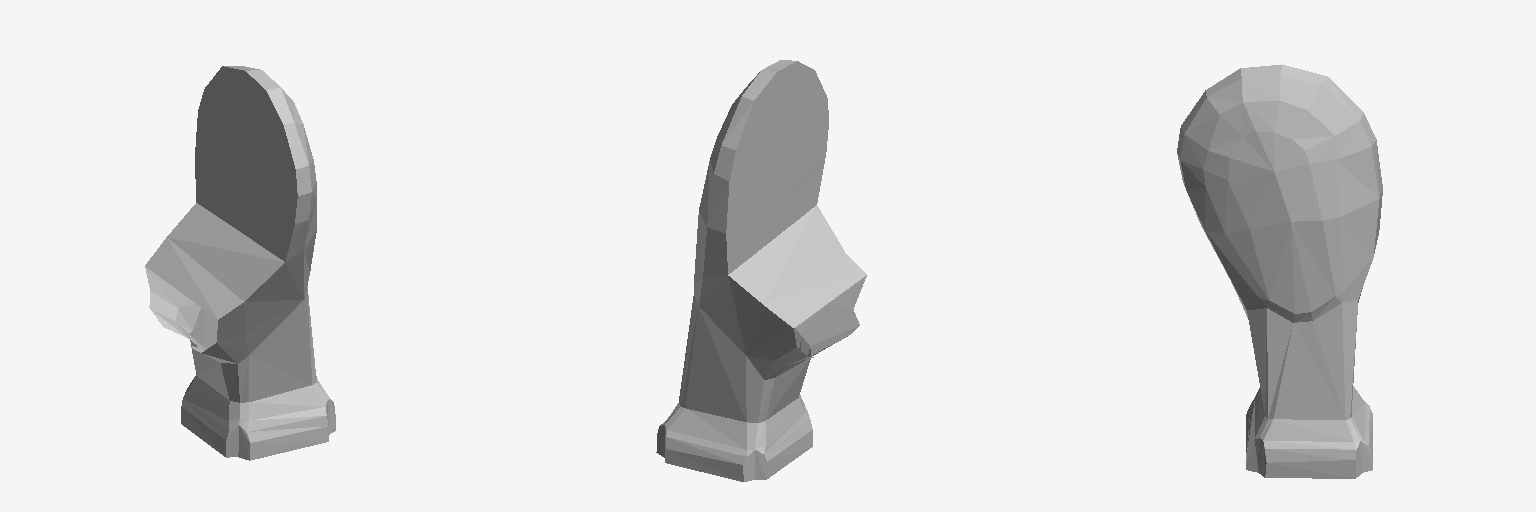
Rendered from DewbackBLeftLeg.obj.
3 views of the same model, side by side, from view 1: azimuth 30°, elevation 25°; view 2: azimuth 150°, elevation 25°; view 3: azimuth 270°, elevation 25° (orthographic).
Visible parts, largest first — view 1: Mesh_0106_Mesh_0106Mesh.001; view 2: Mesh_0106_Mesh_0106Mesh.001; view 3: Mesh_0106_Mesh_0106Mesh.001.
Boxes of the visible parts, x1=… form: Mesh_0106_Mesh_0106Mesh.001: x1=145, y1=66, x2=335, y2=460; Mesh_0106_Mesh_0106Mesh.001: x1=656, y1=60, x2=866, y2=481; Mesh_0106_Mesh_0106Mesh.001: x1=1177, y1=64, x2=1382, y2=478.
Size of the model in its own units: 0.1962 by 0.4762 by 0.2383.